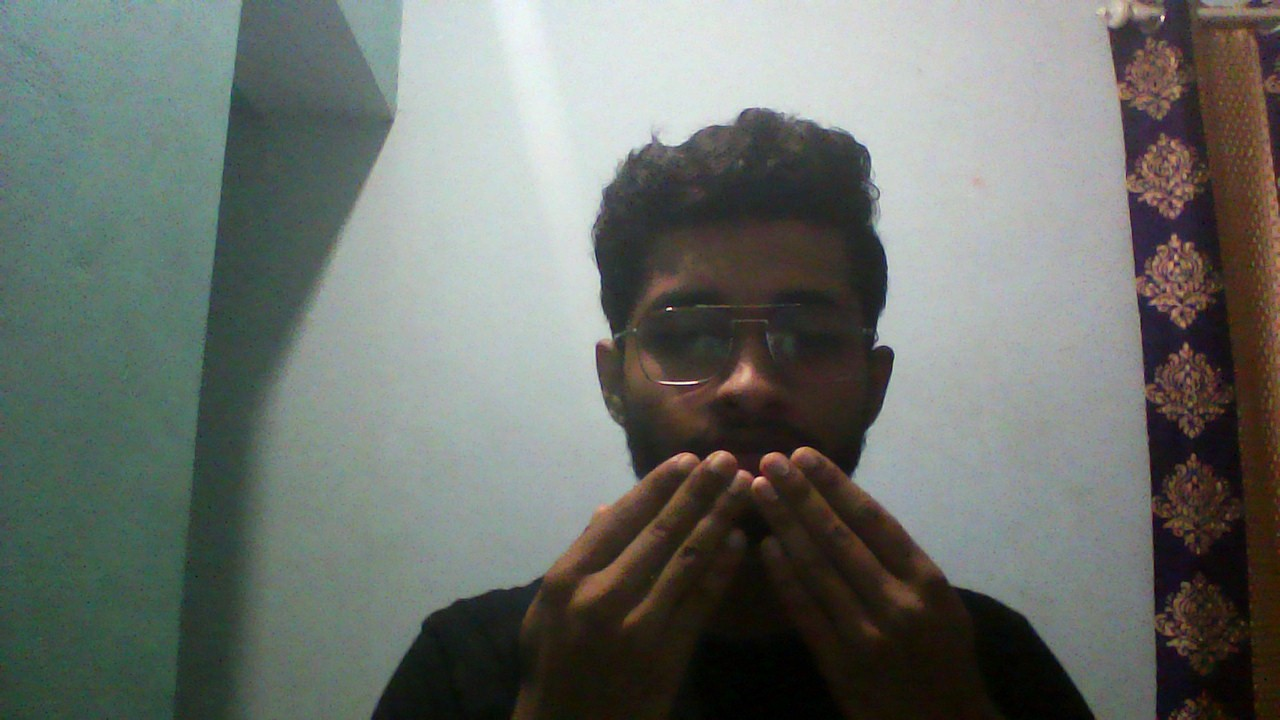Thanks: (524, 445, 967, 682)
